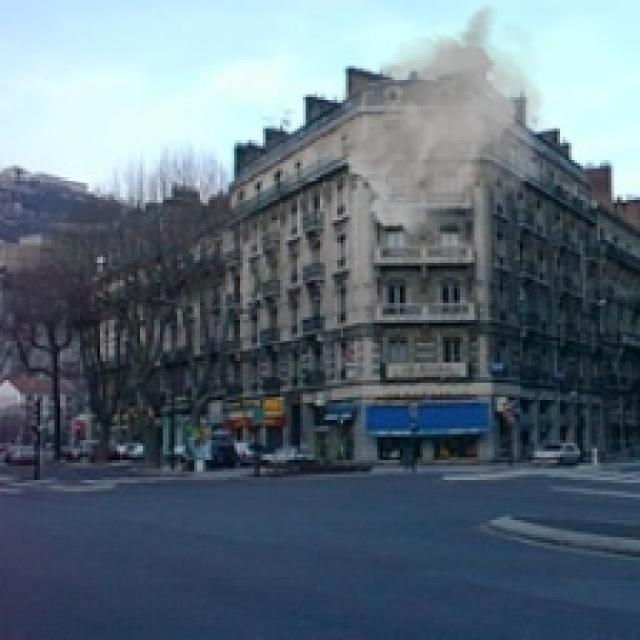smoke: (297, 3, 552, 240)
